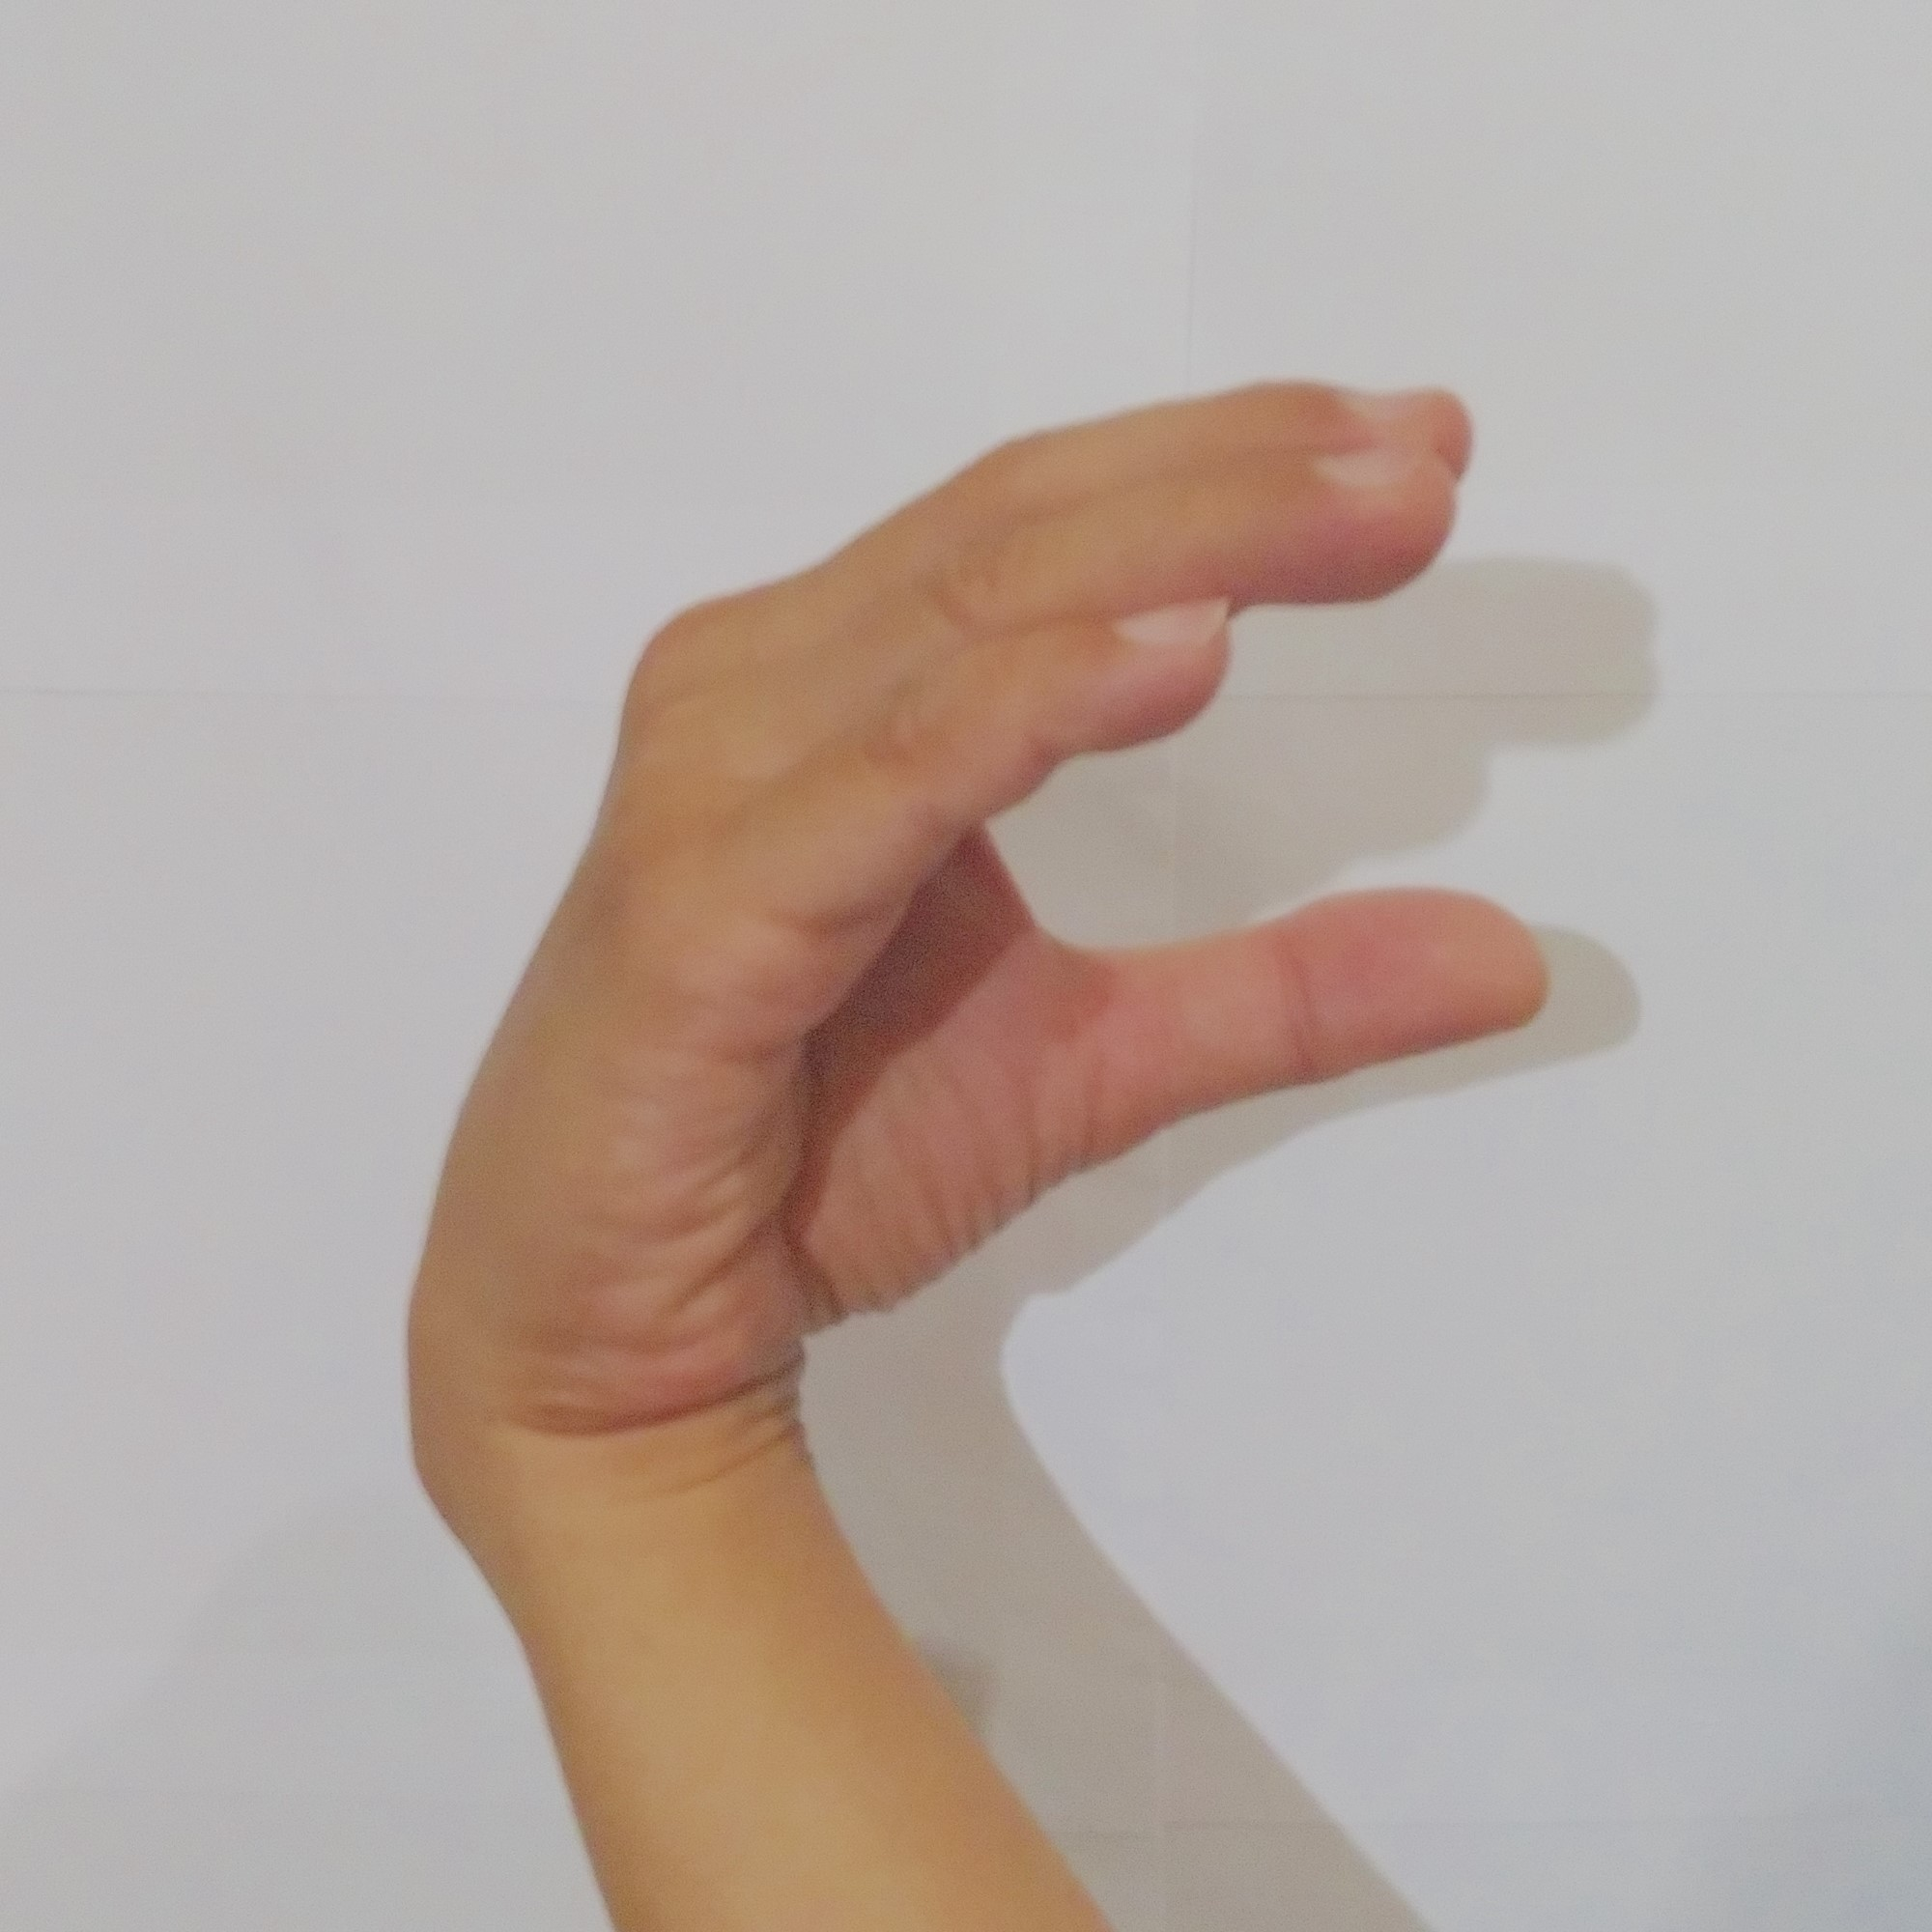C: (426, 352, 1576, 1417)
